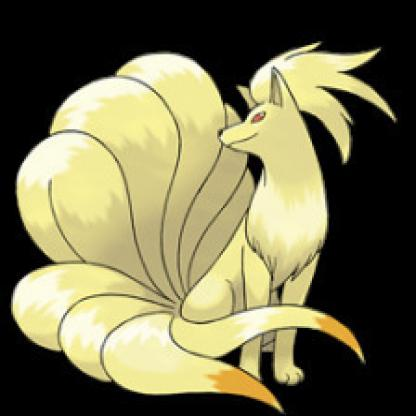Ninetales: (12, 33, 408, 413)
